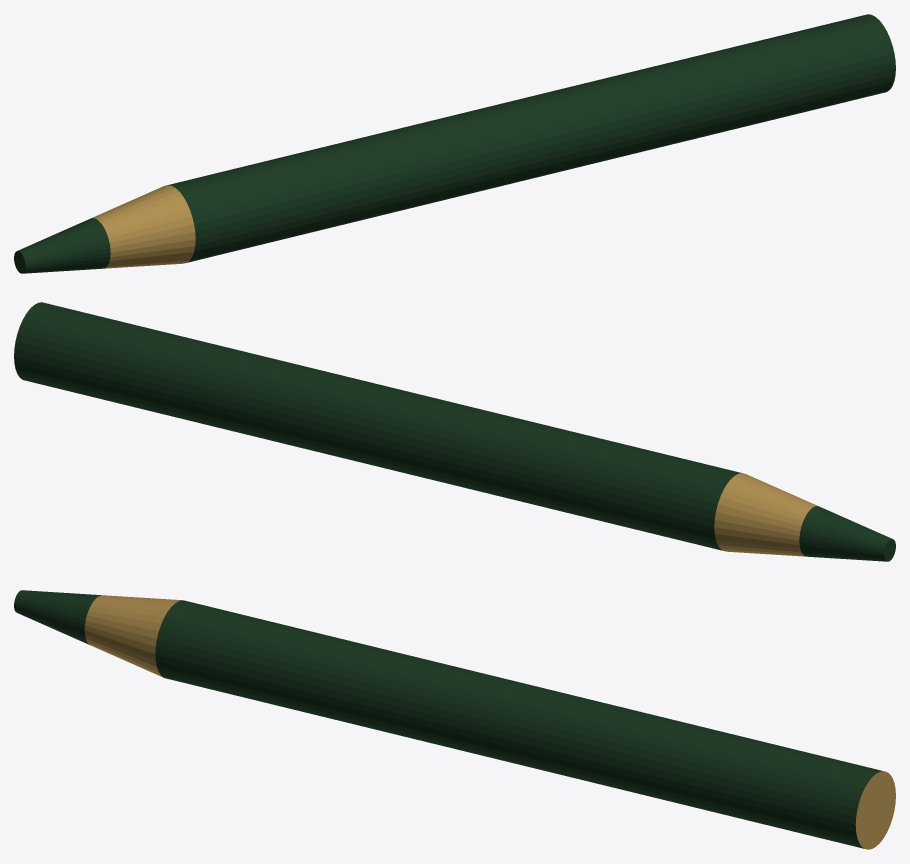
Rendered from pen.fbx.
3 renders of one model, top to bottom at view 1: azimuth 30°, elevation 25°; view 2: azimuth 150°, elevation 25°; view 3: azimuth 330°, elevation 25°, orthographic.
Parts seen in each view (by area): view 1: pen; view 2: pen; view 3: pen.
Boxes of the visible parts, x1,y1,x2,y2 form: pen: (14,14,895,273); pen: (14,302,895,561); pen: (14,590,895,849).
Size of the model in its own units: 18.08 by 1.47 by 1.47.
